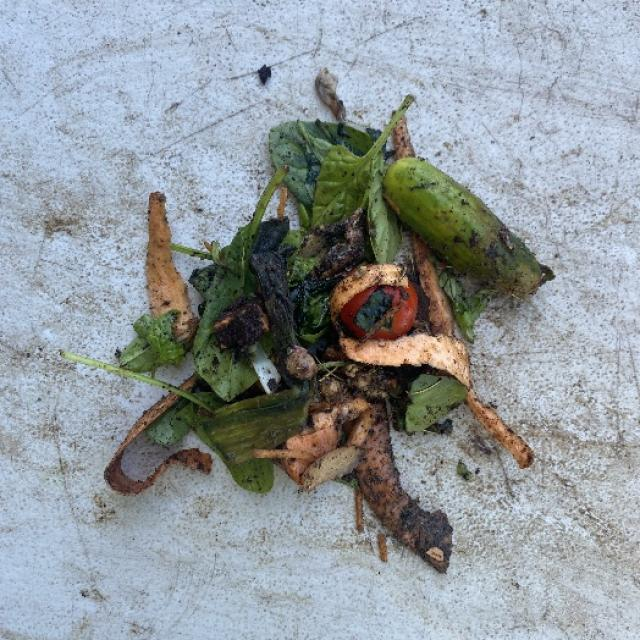organik: (110, 88, 516, 546)
